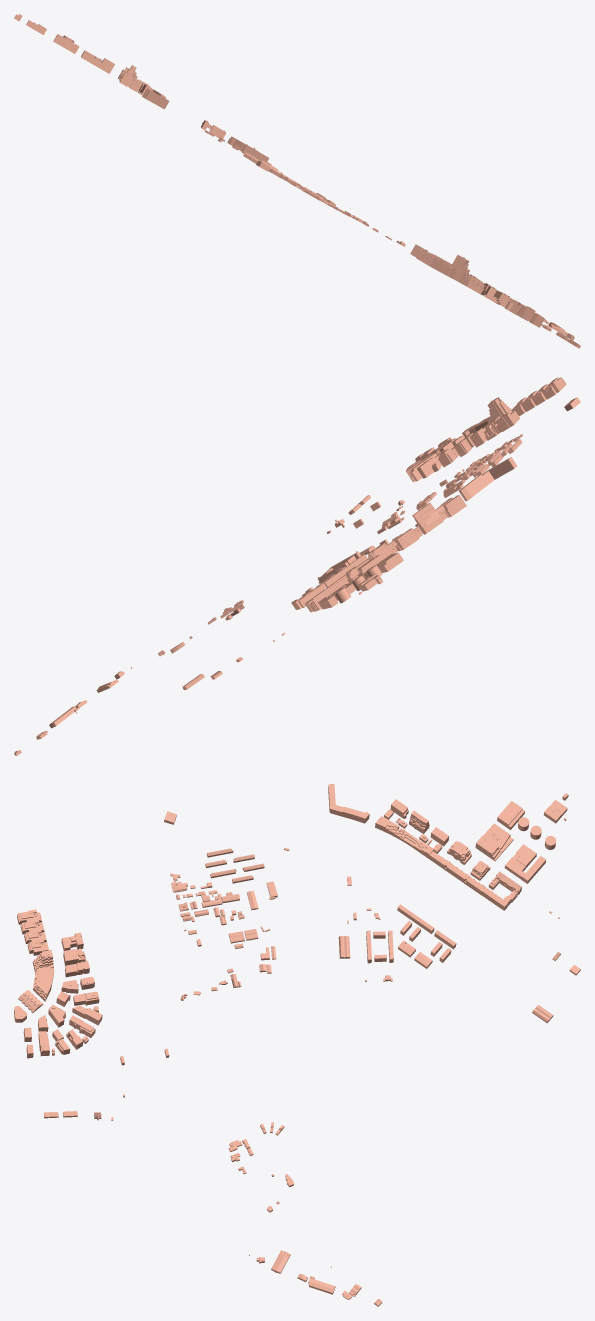
The picture shows the model from 3 angles, top to bottom: view 1: azimuth 30°, elevation 25°; view 2: azimuth 150°, elevation 25°; view 3: azimuth 270°, elevation 25°; orthographic projection. The views are drawn at different scales.
Bounding box in the file's own units: 3.24e+07 × 2.52e+07 × 3.92e+07.
